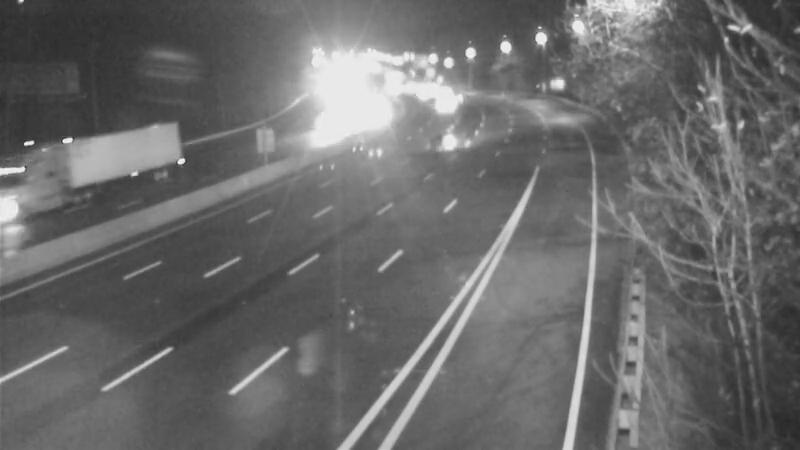vehicle: (1, 165, 72, 245), (399, 71, 449, 121), (418, 80, 468, 130), (411, 110, 461, 160)
